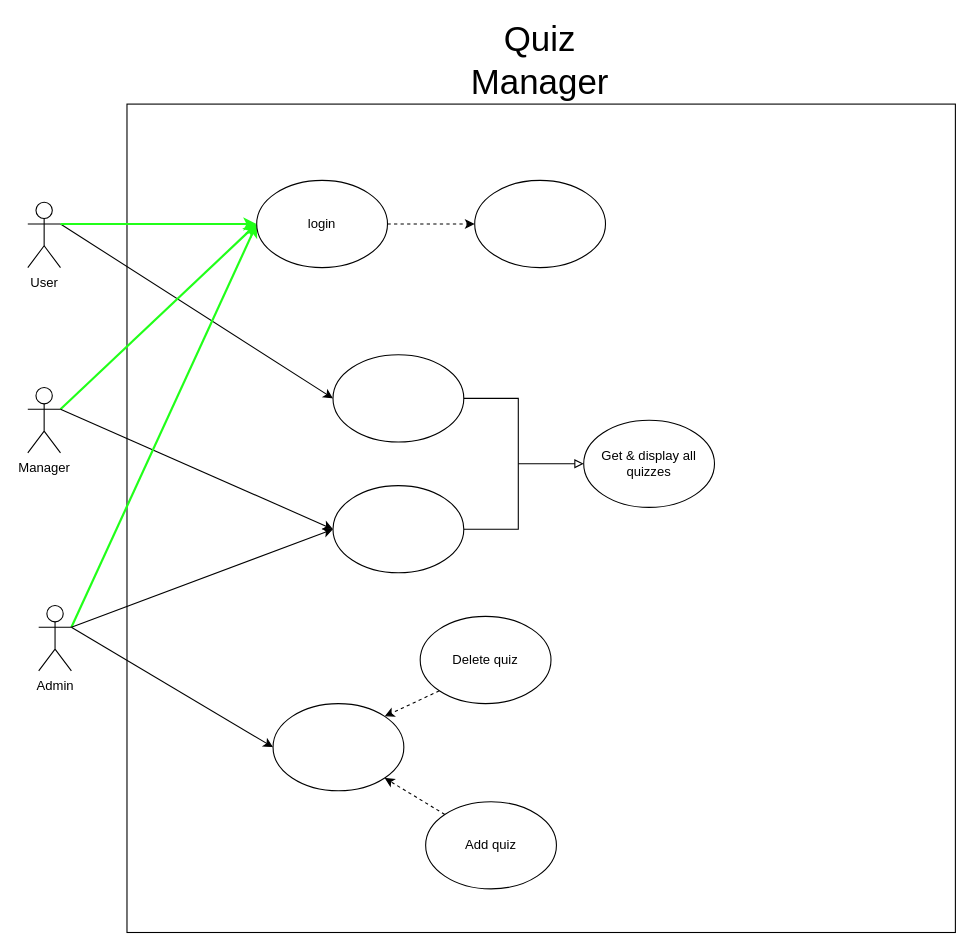
This 974x952 diagram has some shape labels left out. The centre of each missing label's shape, as x and y in pixels:
"Edit Quiz" goes at (338,747).
"validate credentials" goes at (539,223).
"WITH answers" goes at (398,529).
"WITHOUT answers" goes at (398,398).
